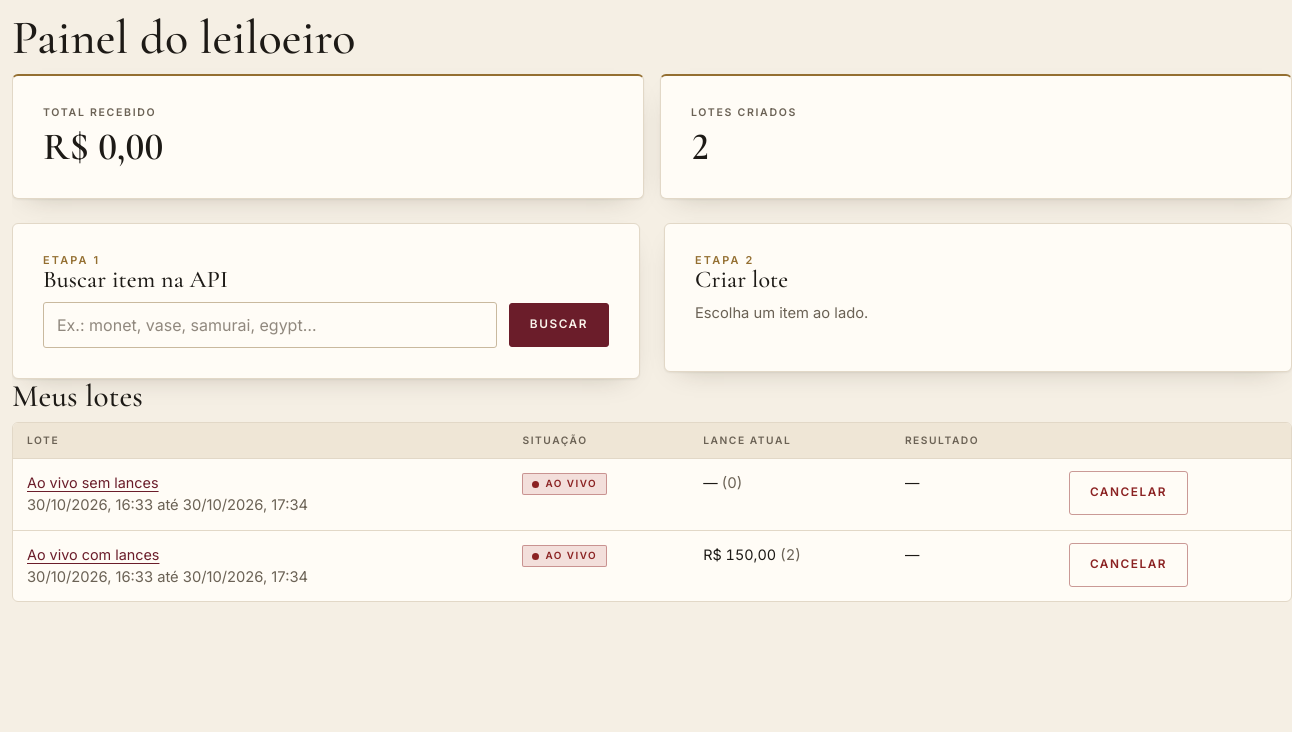
Test case: Seller — meus lotes › cancela com confirmação (aviso diferente se houver lances) e trata recusa/erro
The image size is (1292, 732).
Click the button "Cancelar" in the row of "Ao vivo sem lances" at x=1128, y=493, box [1069, 471, 1188, 515]
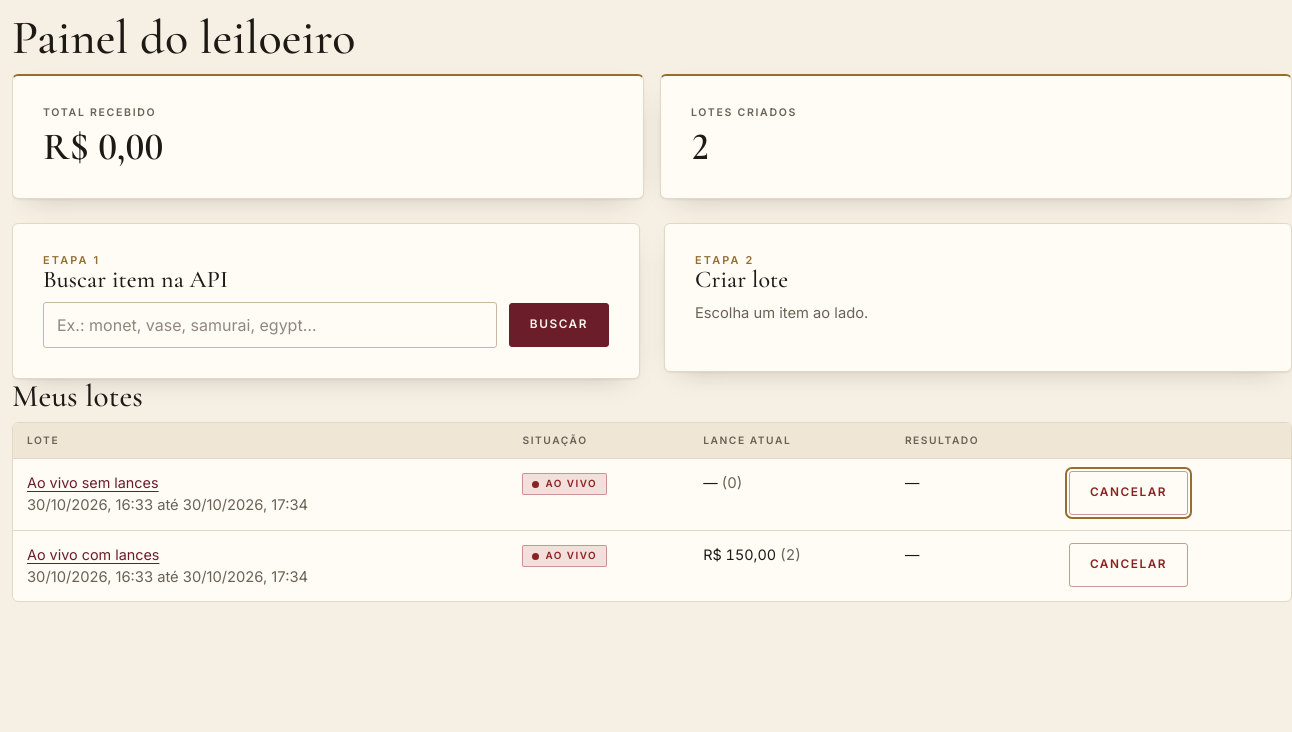
Click the button "Cancelar" in the row of "Ao vivo com lances" at x=1128, y=564, box [1069, 542, 1188, 586]
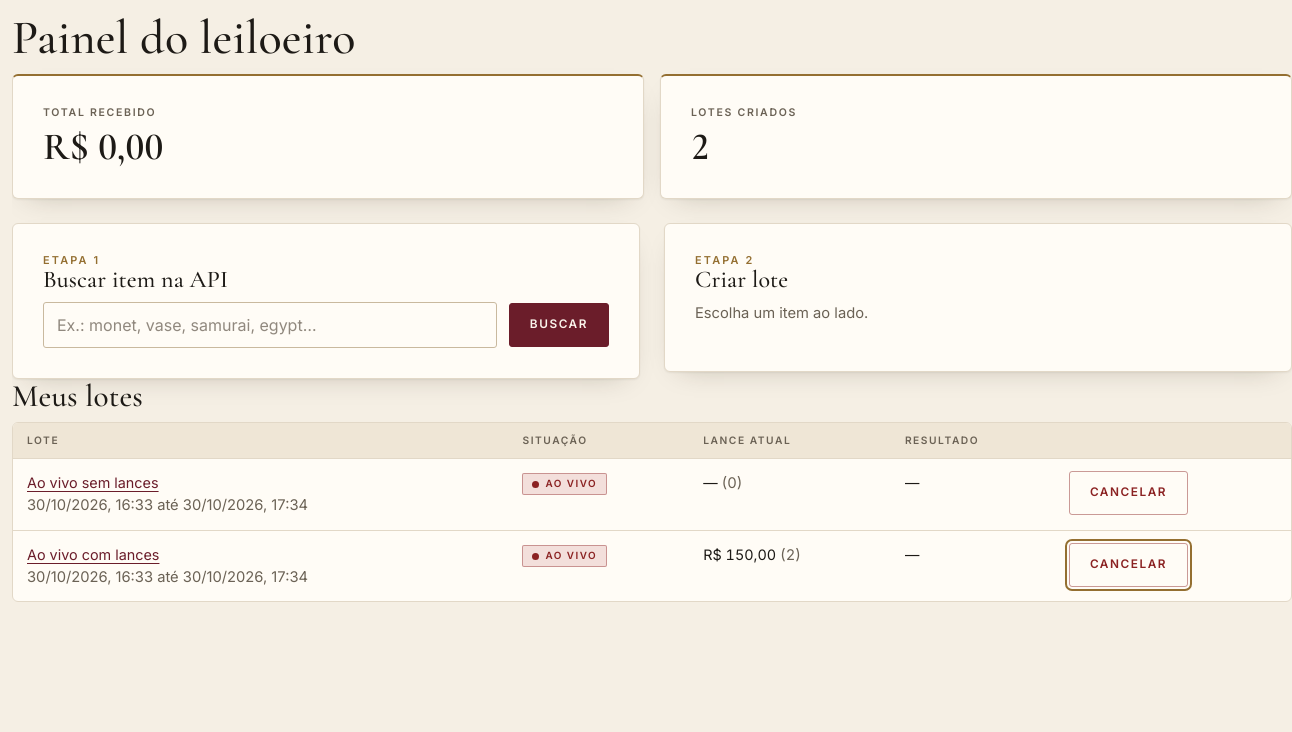
Click the button "Cancelar" in the row of "Ao vivo sem lances" at x=1128, y=493, box [1069, 471, 1188, 515]
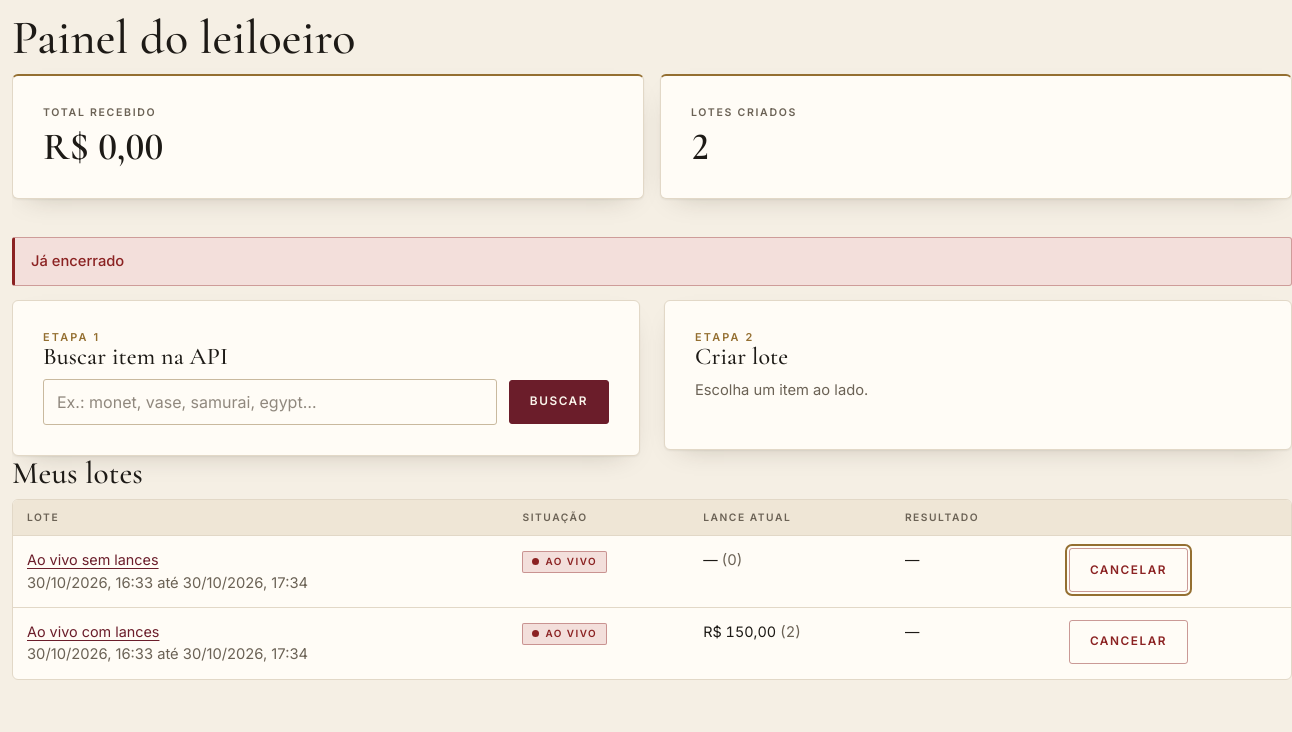
Expected: the text "Já encerrado" is shown, [12, 237, 1291, 286]
